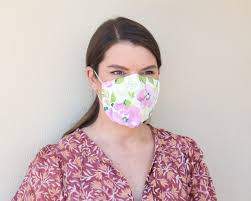FaceMask: (100, 74, 160, 127)
